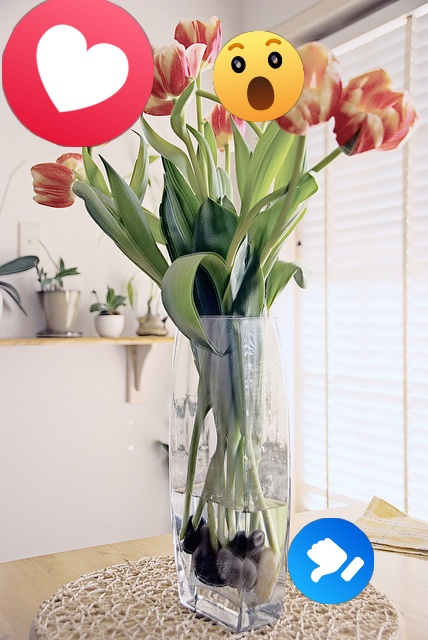like: (288, 518, 374, 604)
love: (2, 0, 154, 147)
wow: (213, 31, 304, 122)
